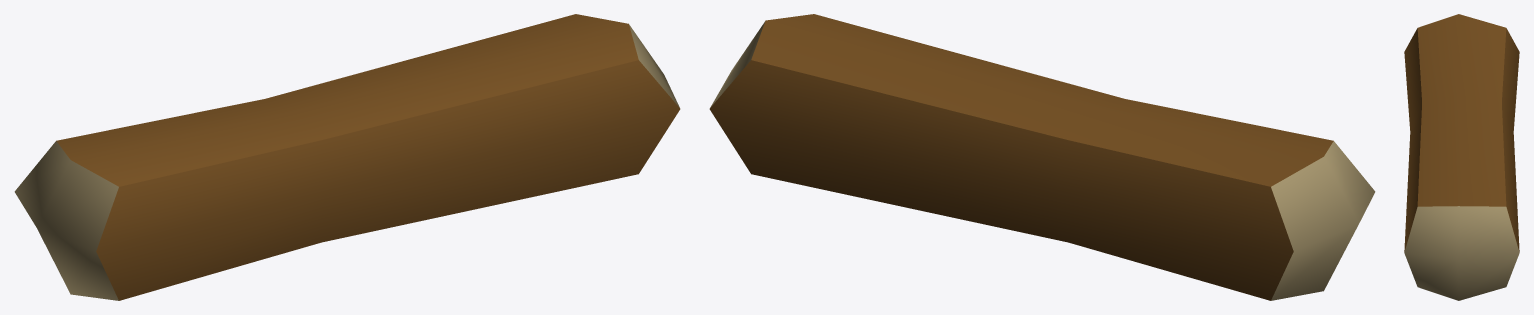
Rendered from log.fbx.
3 views of the same model, side by side, from view 1: azimuth 30°, elevation 25°; view 2: azimuth 150°, elevation 25°; view 3: azimuth 270°, elevation 25° (orthographic). The views are drawn at different scales.
Parts seen in each view (by area): view 1: Cube128; view 2: Cube128; view 3: Cube128.
Part boxes in pixels (<box>): Cube128: <box>14,14,680,300</box>; Cube128: <box>709,14,1375,300</box>; Cube128: <box>1404,14,1519,300</box>.
Bounding box in the file's own units: 1151 × 236 × 260.
